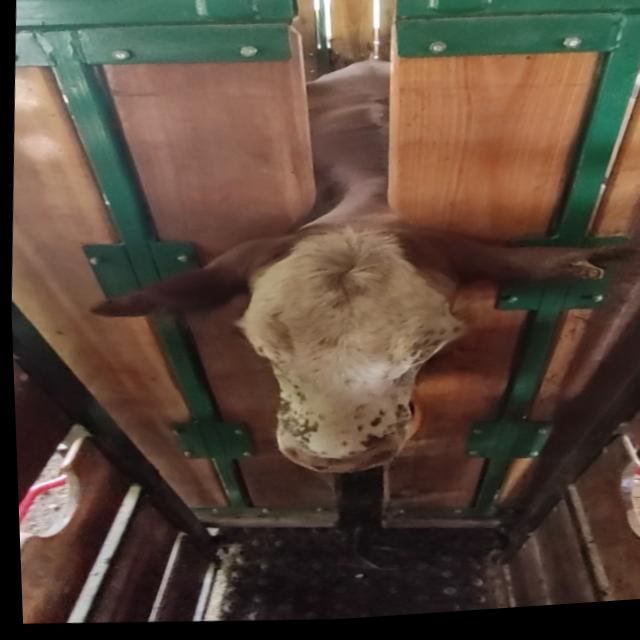cowFace: (231, 213, 476, 489)
